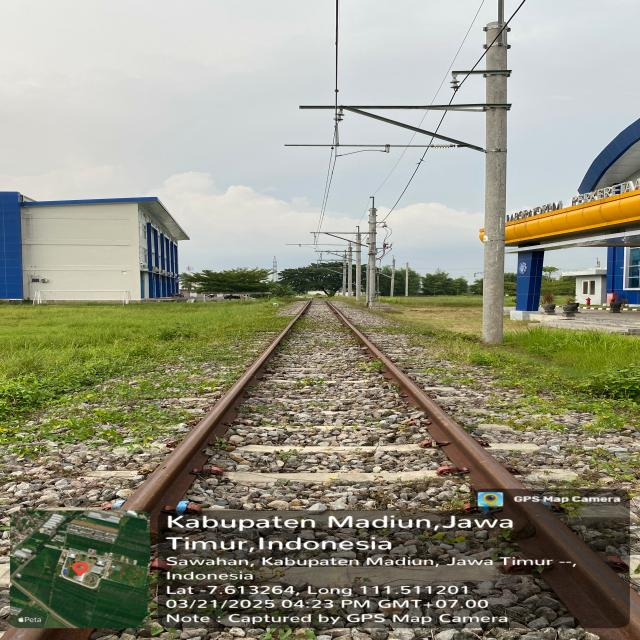rail-detection: (326, 302, 640, 640), (121, 302, 311, 533)
